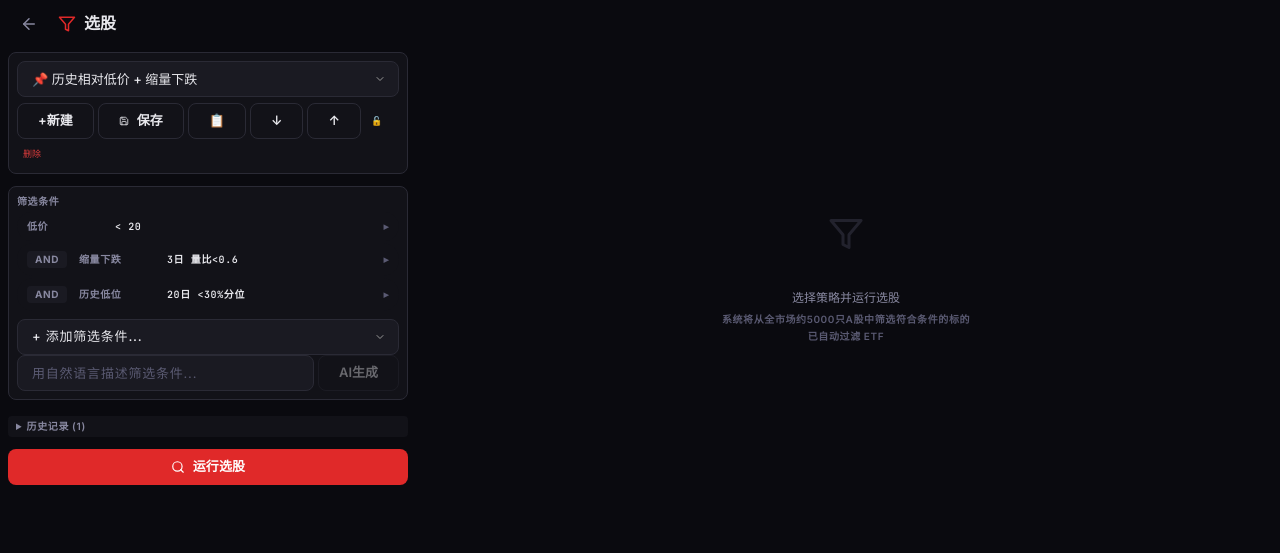
Test: ScreenerPage › loads a history record into results
The width and height of the screenshot is (1280, 553).
Expected: the text "低价" is shown, [27, 220, 48, 232]
Step 1. Click the heading "历史记录 (1)" → (52, 426), box [8, 416, 408, 436]
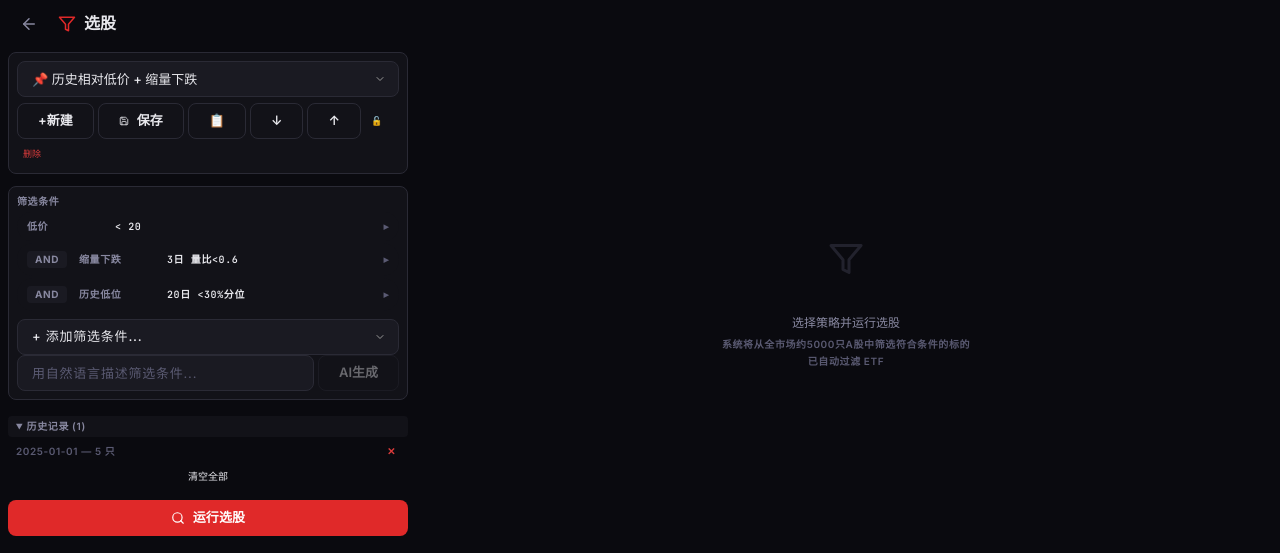
Result: the text "2025-01-01 — 5 只" is shown
Step 2. Click the text "2025-01-01 — 5 只" → (66, 451), box [16, 444, 116, 458]
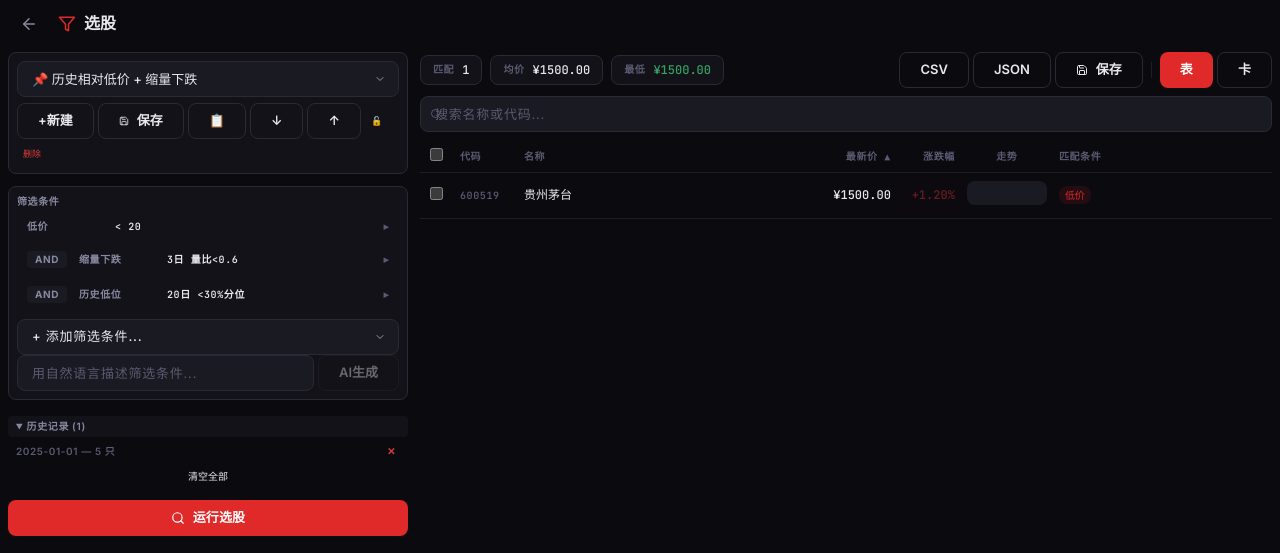
Result: the text "贵州茅台" is shown at [516, 172, 819, 218]
